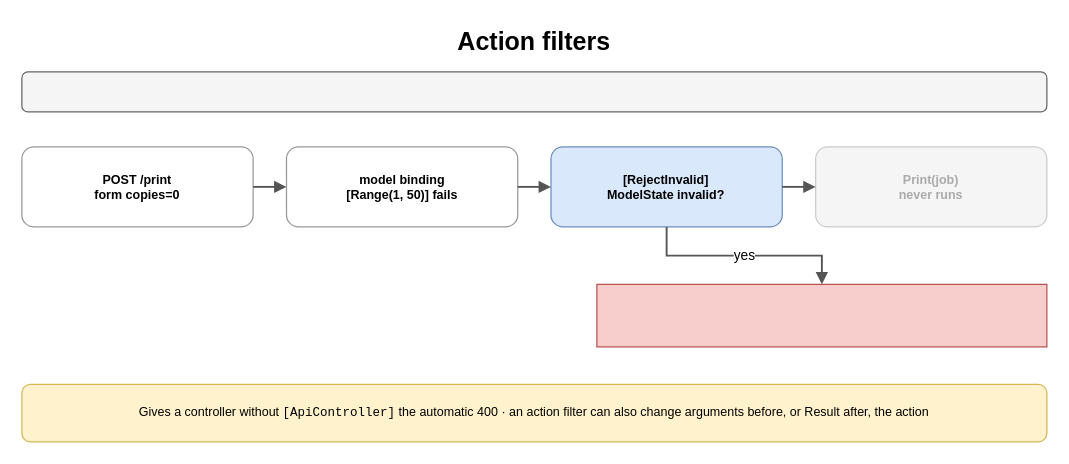
This 1069x464 diagram has some shape labels left out. Each missing label, with the centre of its shape:
"context.Result = BadRequestObjectResult( ValidationProblemDetails) → 400" belongs at (x=821, y=315).
"Run after model binding, with ActionArguments and ModelState ready" belongs at (x=534, y=91).
